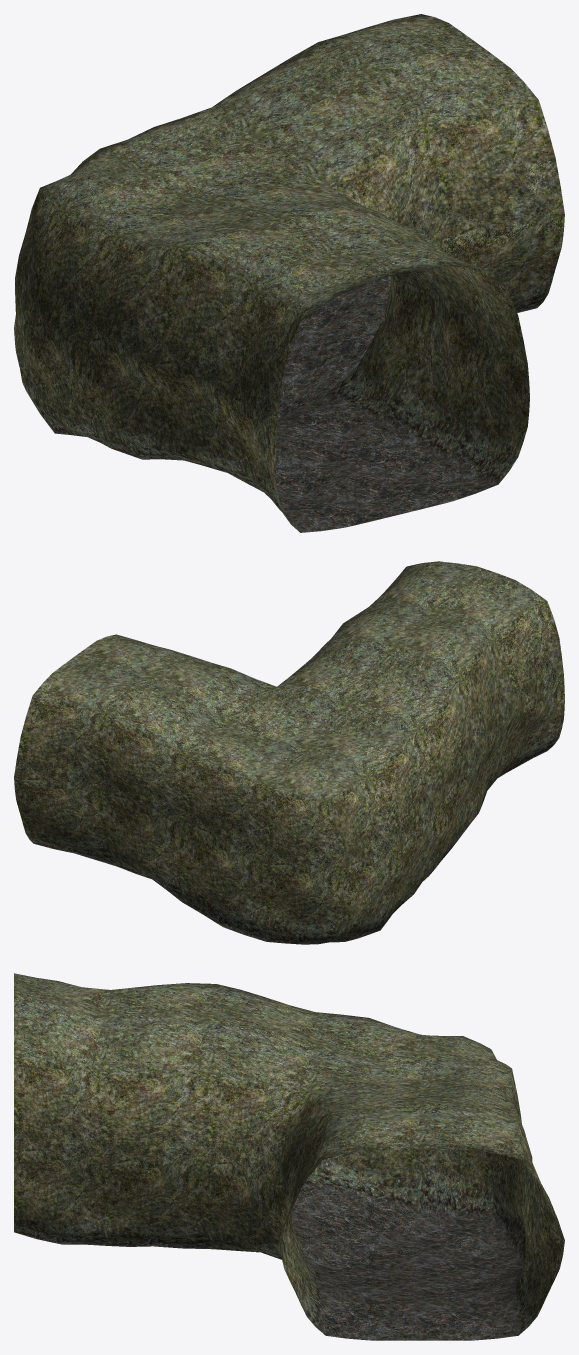
File: thm_all_cave_s03_damprock_mirror_r26_r26.fbx
3 views of the same model, one above another, from view 1: azimuth 30°, elevation 25°; view 2: azimuth 150°, elevation 25°; view 3: azimuth 270°, elevation 25° (orthographic). The views are drawn at different scales.
Parts seen in each view (by area): view 1: mesh_node; view 2: mesh_node; view 3: mesh_node.
Boxes of the visible parts, bbox=[...] form: mesh_node: bbox=[14, 14, 564, 532]; mesh_node: bbox=[14, 561, 564, 944]; mesh_node: bbox=[14, 973, 564, 1340].
Size of the model in its own units: 33.83 by 22.2 by 41.86.
